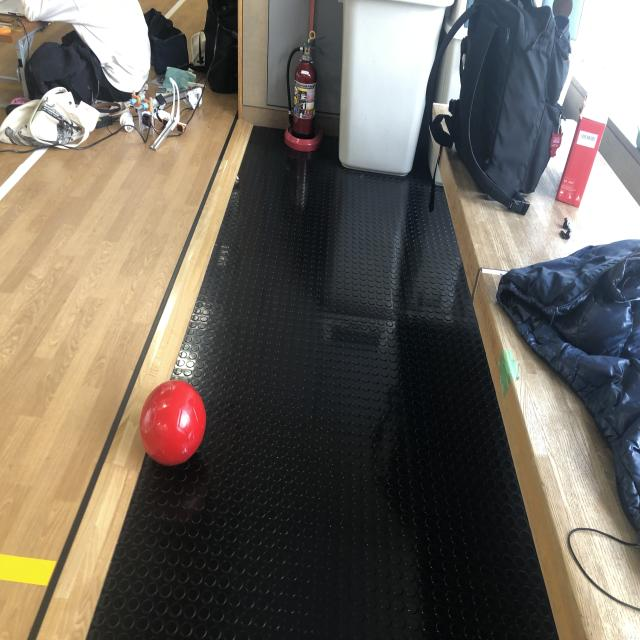red_ball: (138, 379, 207, 466)
